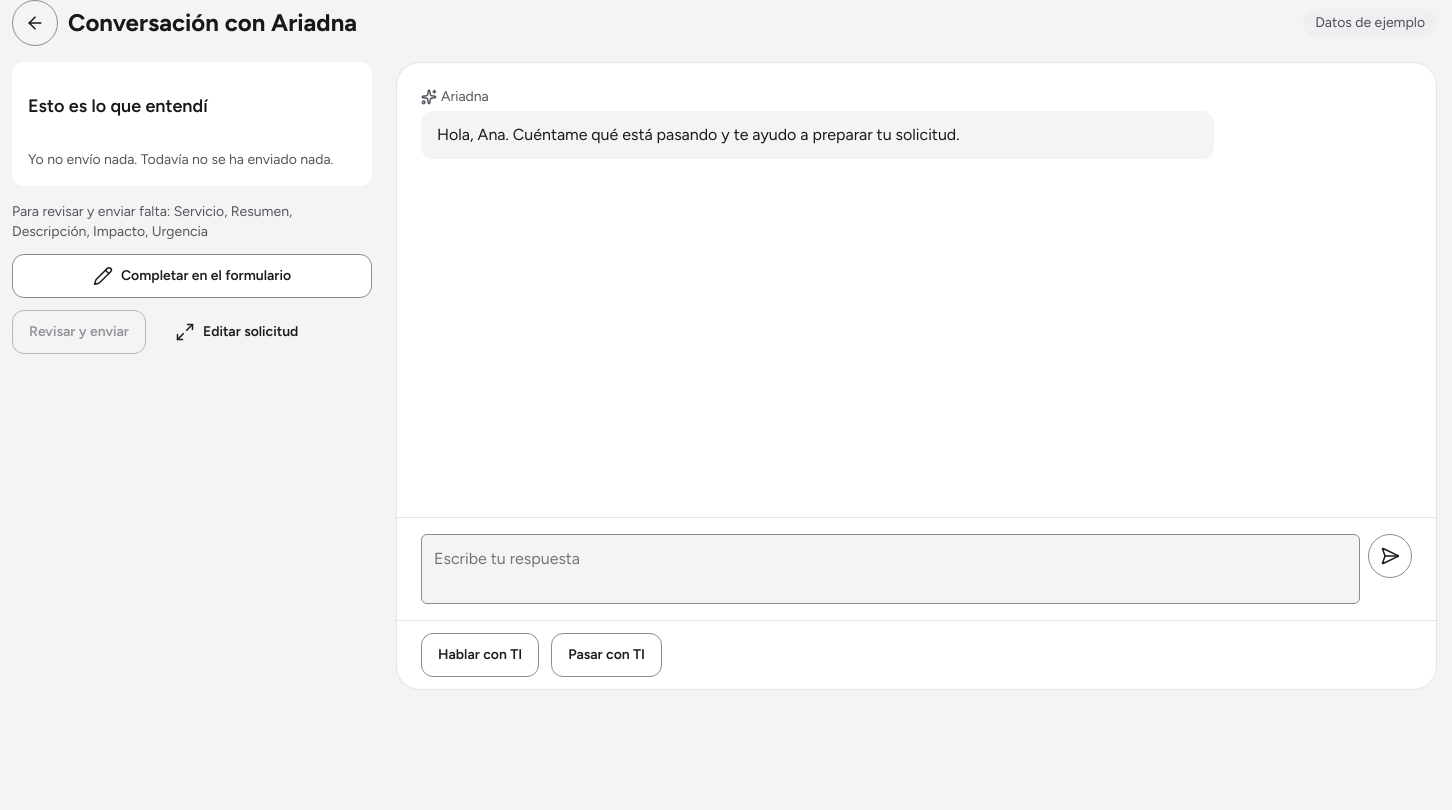
Test: ConversationContainer (U6) › a request that takes longer than the timeout becomes a handoff instead of blocking
Type "hola" into the text box named "Tu respuesta para Ariadna" at (890, 569), box [421,534,1360,604]
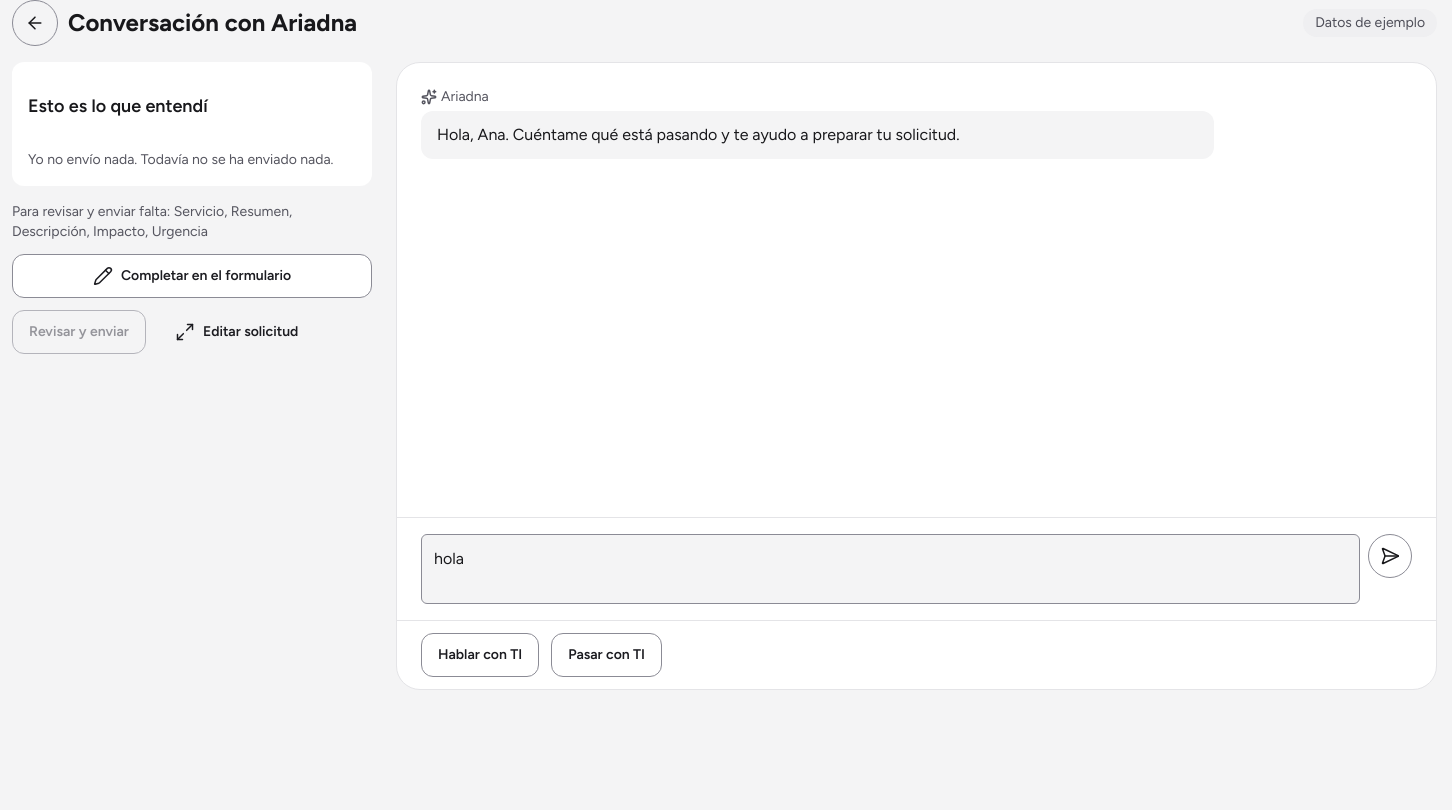
Click the button named "Enviar respuesta a Ariadna" at (1390, 556), box [1368,534,1412,578]
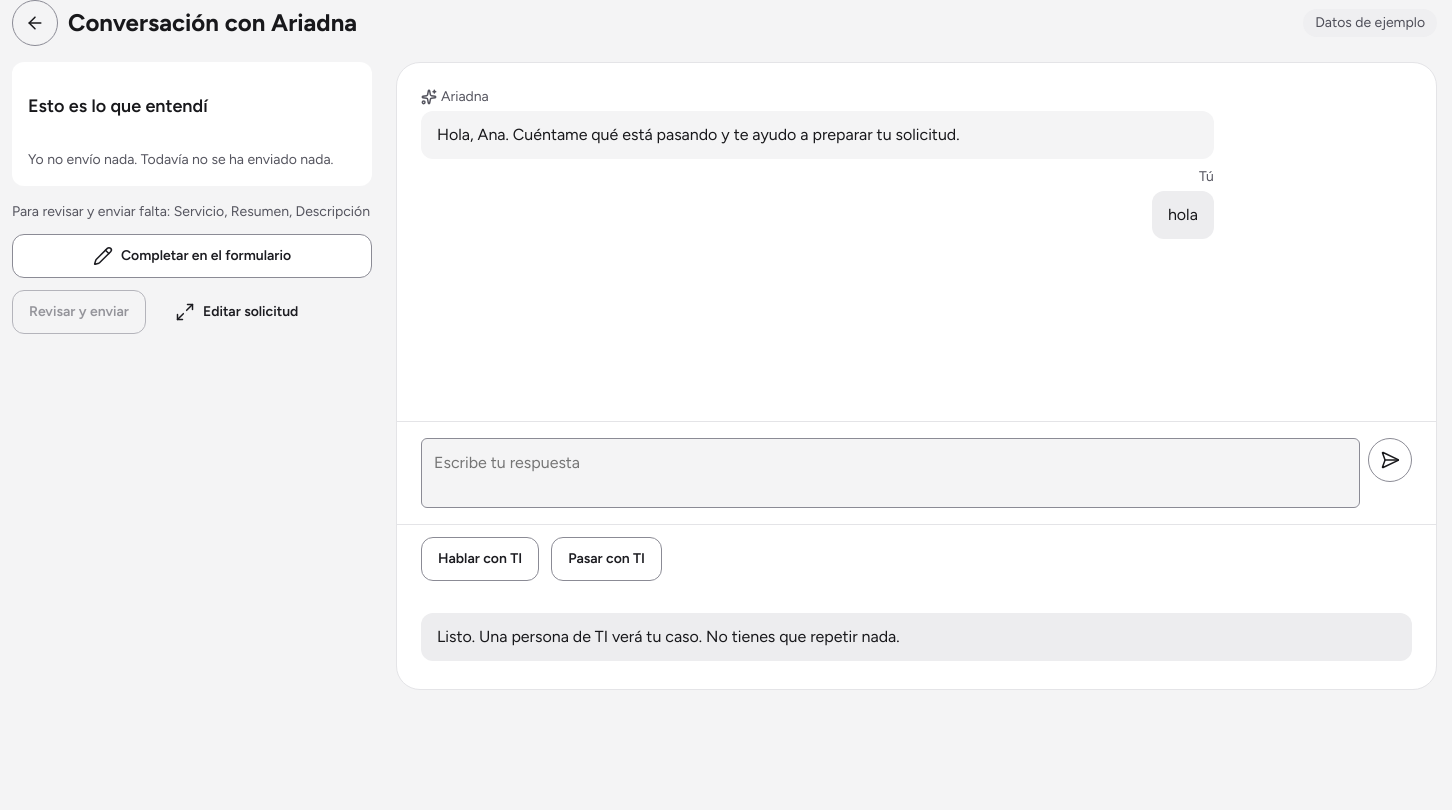
Expected: the text "Listo. Una persona de TI verá tu caso. No tienes que repetir nada." is shown, [421,613,1412,661]
